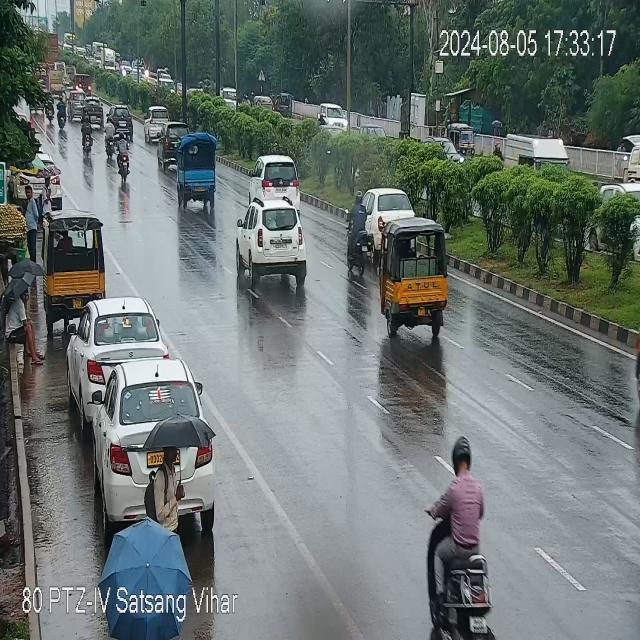2-wheelers: (427, 425, 499, 636), (345, 191, 371, 279), (112, 133, 130, 186), (46, 94, 66, 128), (81, 115, 97, 155), (103, 115, 115, 158)
auto: (380, 228, 450, 331), (44, 213, 106, 318), (177, 141, 219, 208), (453, 122, 475, 156)
car: (85, 363, 216, 528), (71, 300, 165, 398), (236, 195, 308, 293), (248, 151, 300, 199), (369, 181, 387, 262), (157, 124, 184, 167), (52, 162, 67, 208), (324, 102, 348, 130), (143, 103, 163, 134), (86, 97, 108, 125), (116, 104, 134, 138), (68, 88, 83, 119), (48, 68, 64, 95), (81, 72, 93, 96), (64, 64, 77, 86)
pedestrian: (148, 426, 188, 532), (5, 278, 43, 362), (25, 186, 39, 260), (44, 175, 52, 222)
truck: (507, 133, 568, 171)
